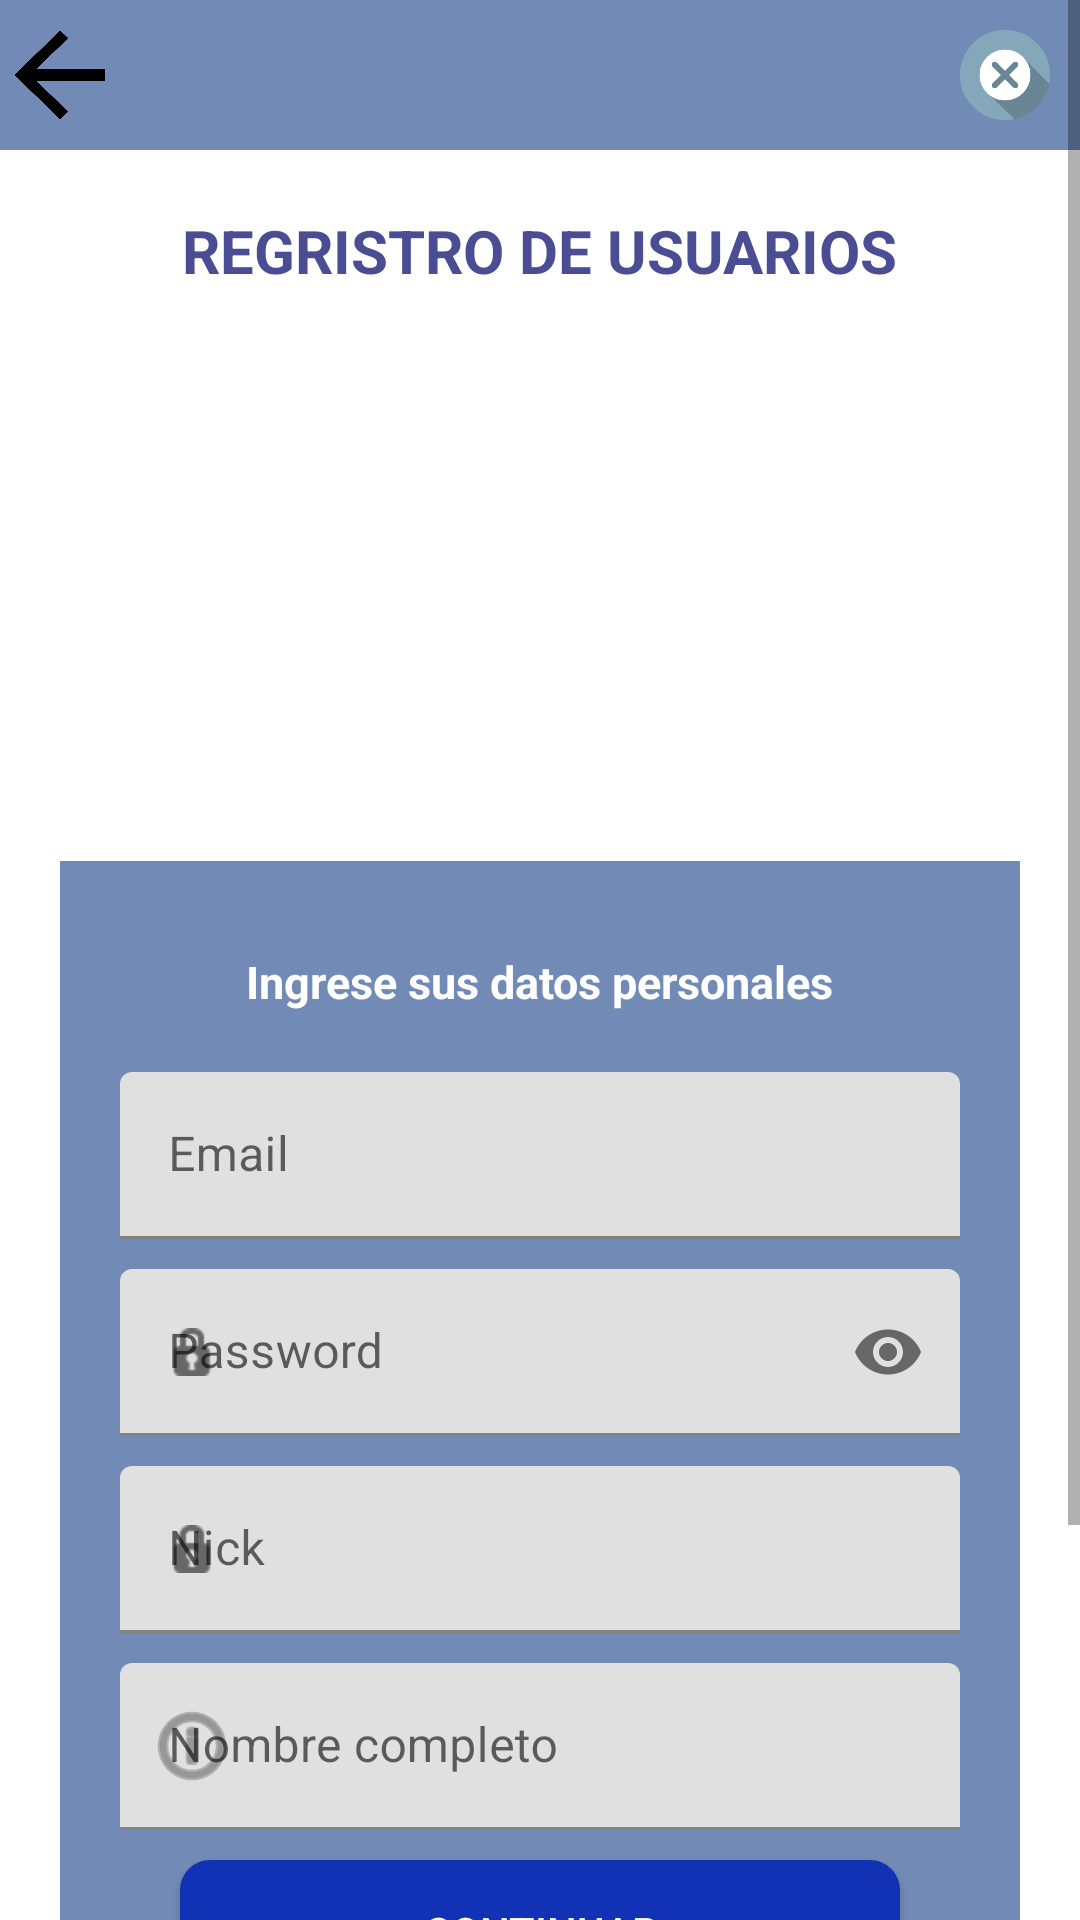

Icons on this 1080*1920 Android screen, each with the point to tap as (x,y):
back arrow: (60,75)
close: (1005,75)
